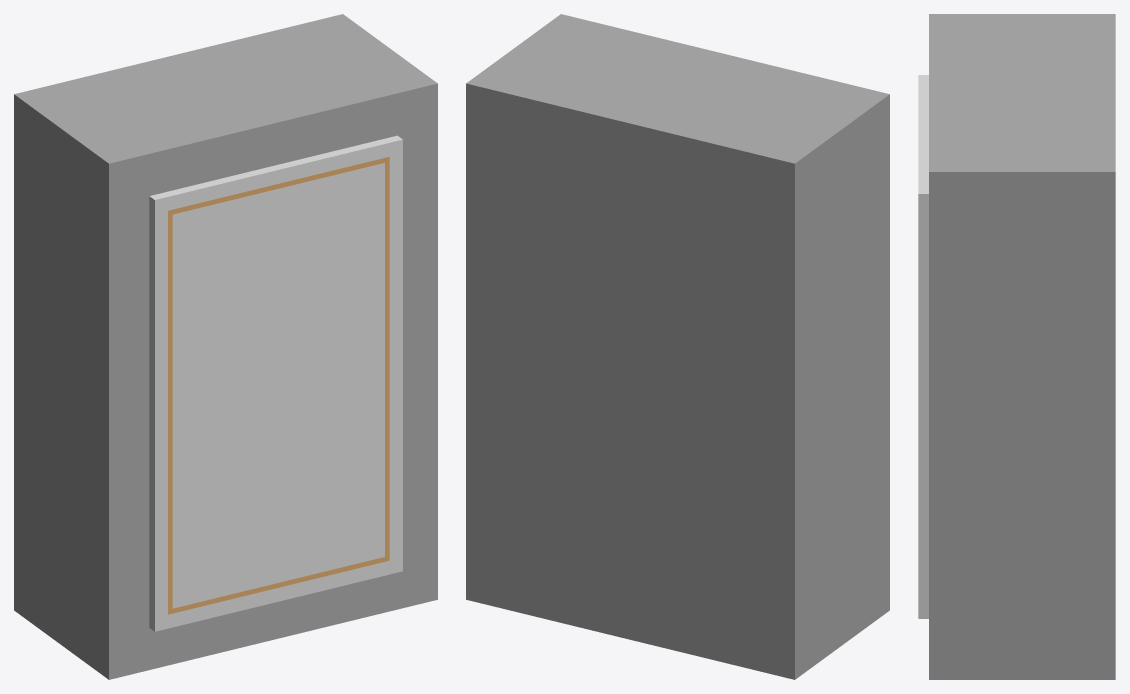
The model's file is lock.fbx.
3 views of the same model, side by side, from view 1: azimuth 30°, elevation 25°; view 2: azimuth 150°, elevation 25°; view 3: azimuth 270°, elevation 25° (orthographic).
Parts seen in each view (by area): view 1: card reader; view 2: card reader; view 3: card reader.
Boxes of the visible parts, x1,y1,x2,y2 form: card reader: [14, 14, 437, 679]; card reader: [466, 14, 889, 679]; card reader: [918, 14, 1115, 679].
Size of the model in its own units: 10 by 15 by 5.29.
